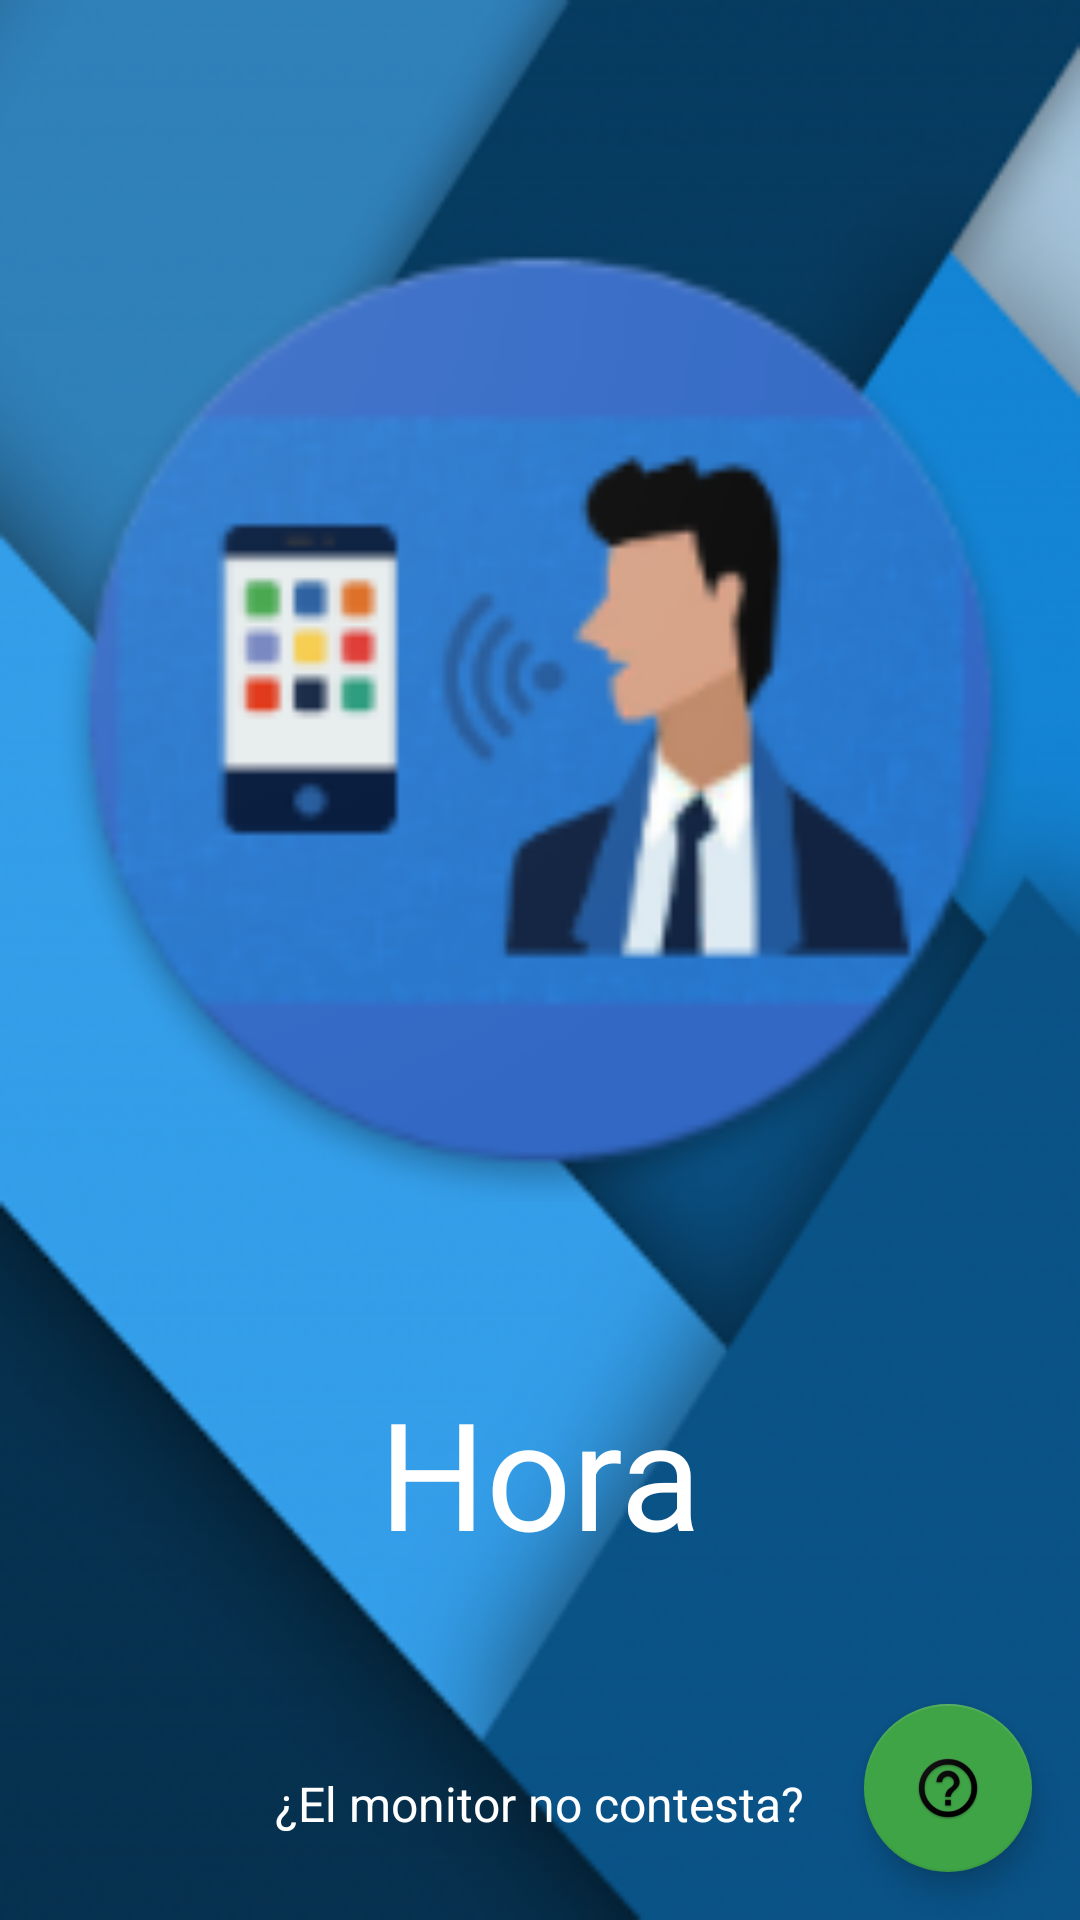

Where to tap for icons on this 1080w x 1920h app screen, as point (x, y):
question: point (948, 1788)
